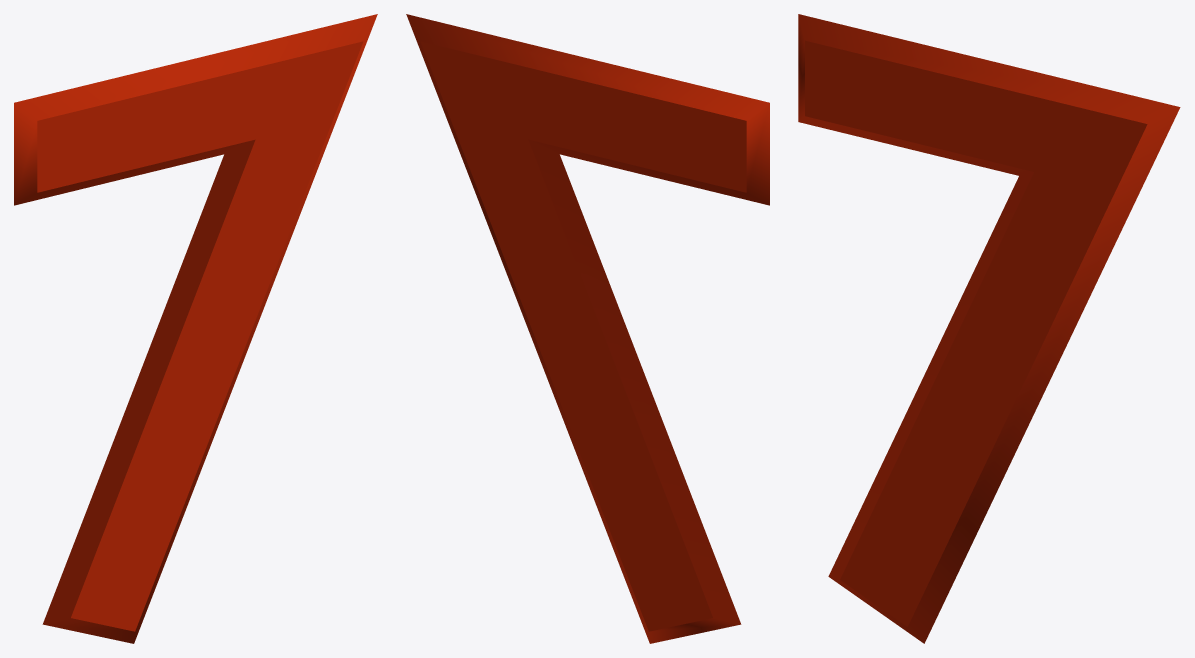
Rendered from seven.obj.
3 views of the same model, side by side, from view 1: azimuth 30°, elevation 25°; view 2: azimuth 150°, elevation 25°; view 3: azimuth 330°, elevation 25° (orthographic). The views are drawn at different scales.
Visible parts, largest first — view 1: Text; view 2: Text; view 3: Text.
Part boxes in pixels (bbox=[...]): Text: bbox=[14, 14, 377, 643]; Text: bbox=[406, 14, 769, 643]; Text: bbox=[798, 14, 1180, 643].
Size of the model in its own units: 0.4919 by 0.7373 by 0.04.
